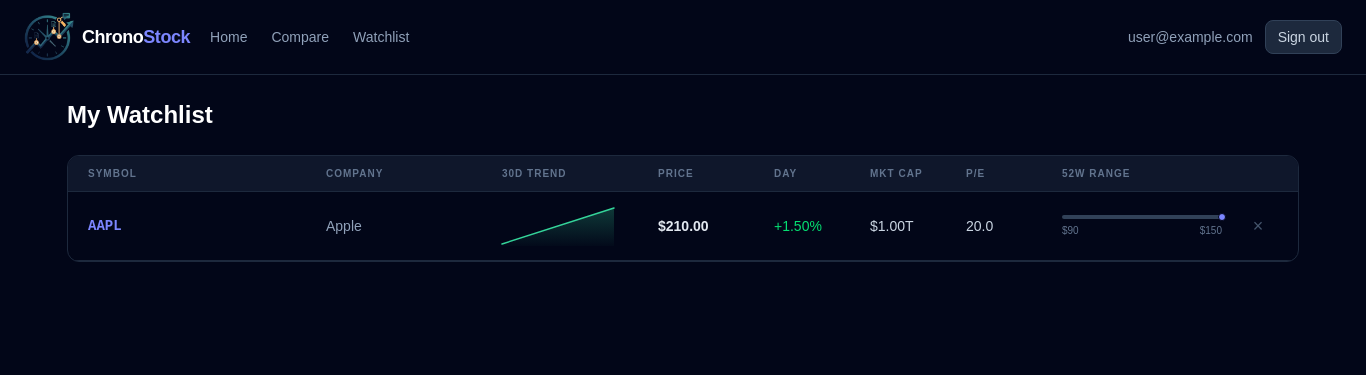
Test case: WatchlistPage › renders rows and removes items
Expected: the text "+1.50%" is shown, [774, 218, 822, 234]
Expected: the text "$1.00T" is shown, [870, 218, 914, 234]
Click the button named "remove aapl" at point(1258, 226), box [1253, 217, 1263, 235]
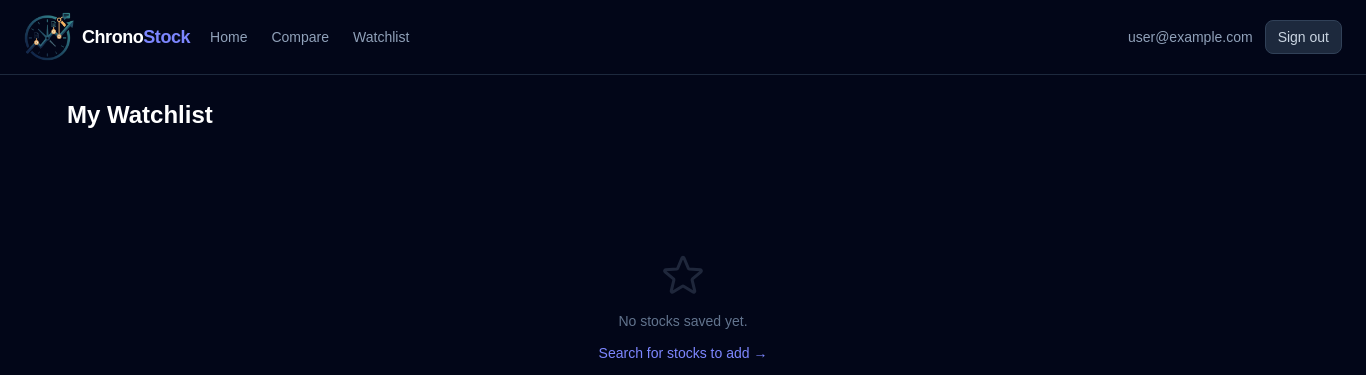
Result: the link "AAPL" is gone
